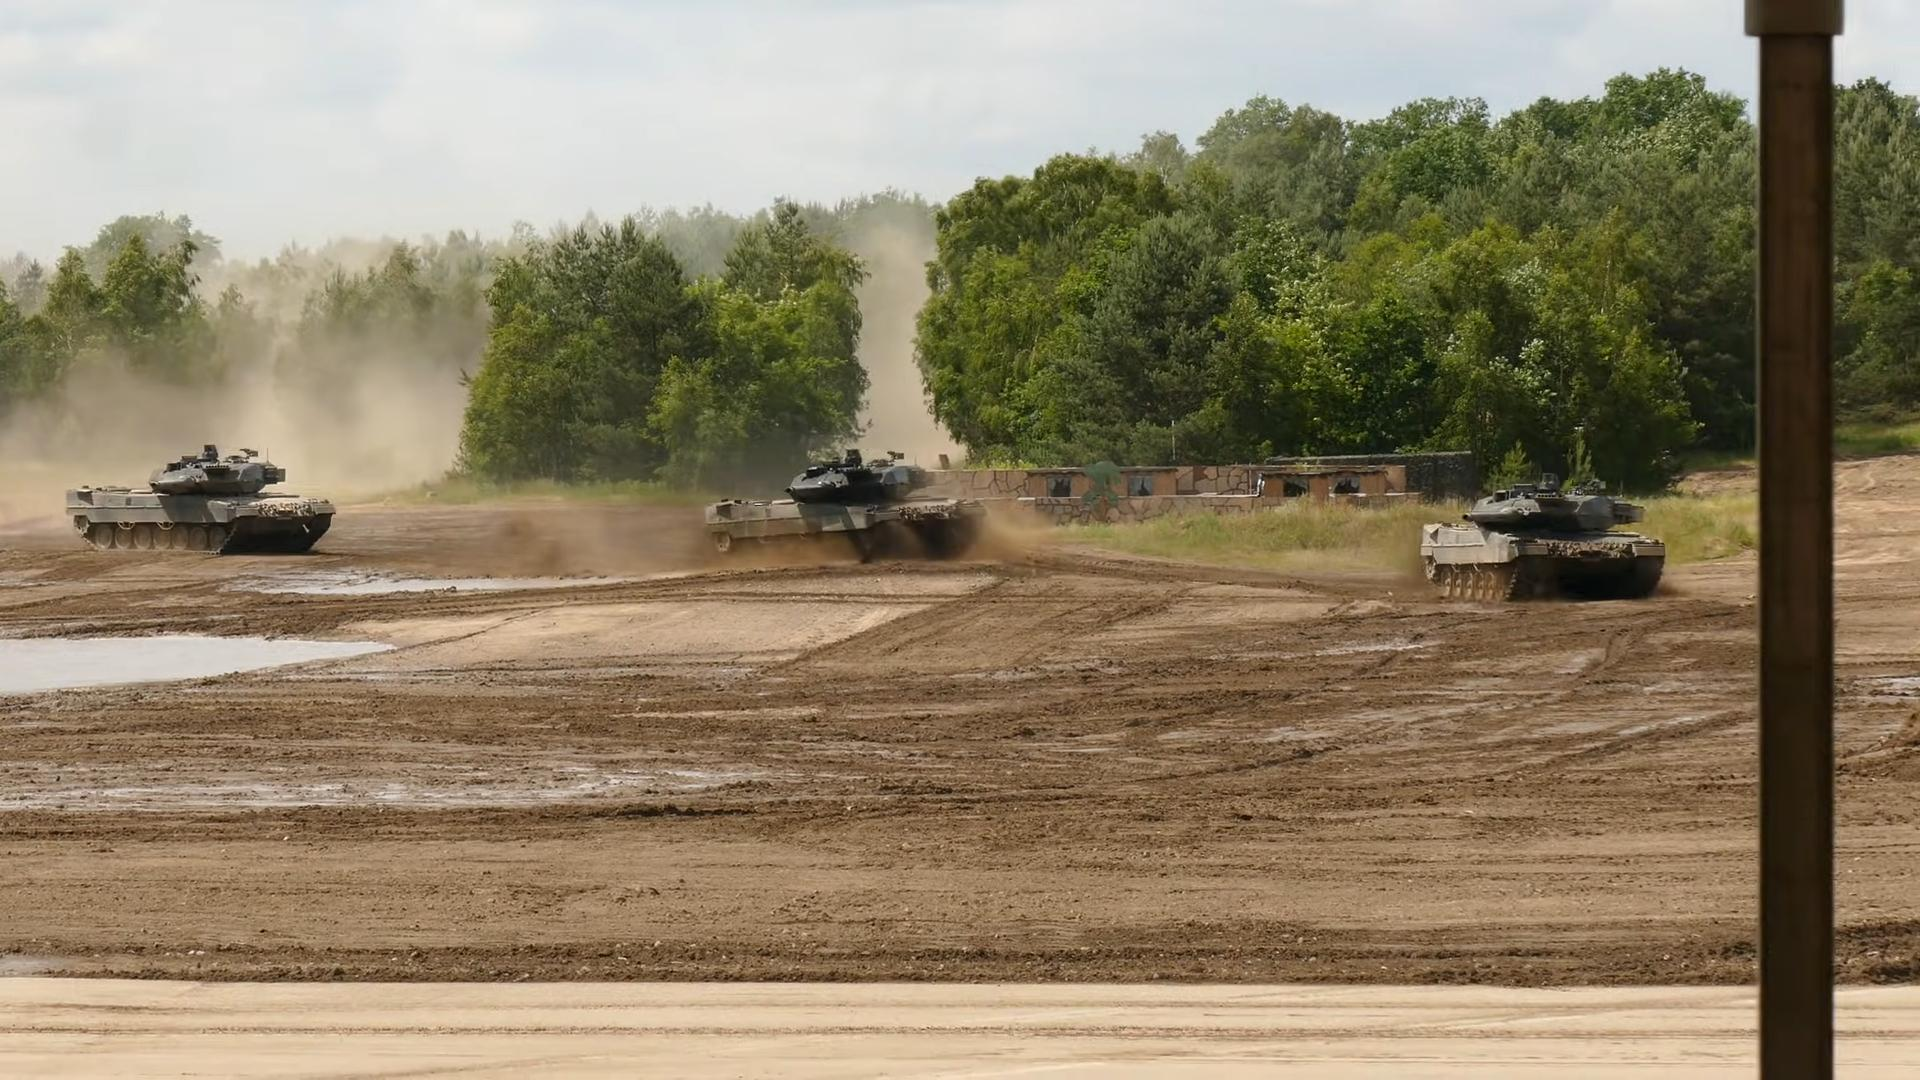tank: (703, 444, 988, 568), (1419, 473, 1668, 600), (66, 444, 336, 554)
